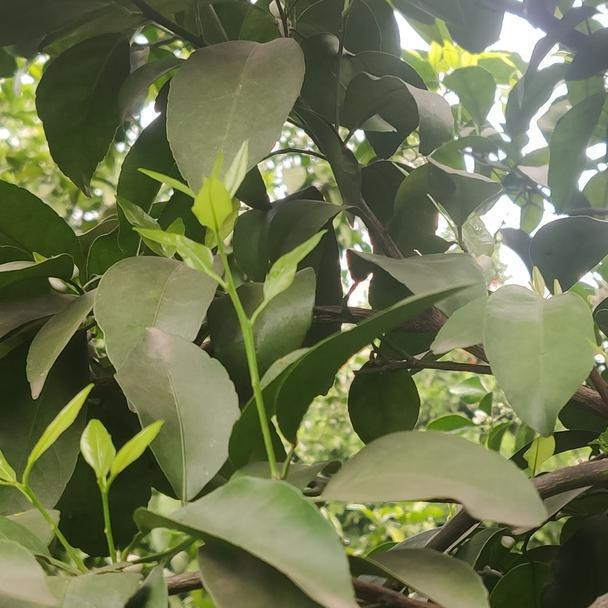shoot: (136, 166, 327, 335)
